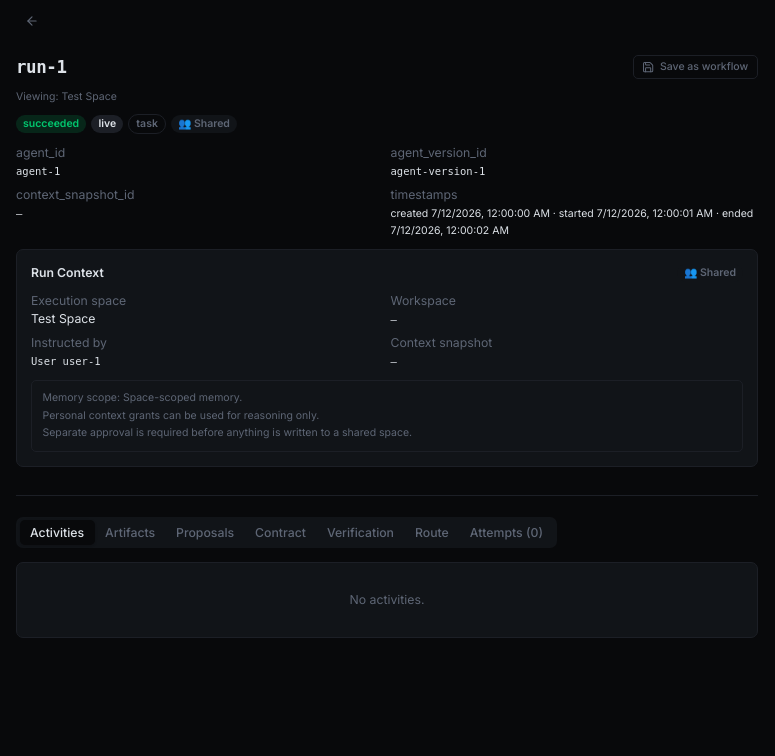
Test case: RunDetailPage route decision panel › shows an explicit unavailable state instead of an empty JSON placeholder
Click the tab "Route" at (432,532), box [404,520,459,544]
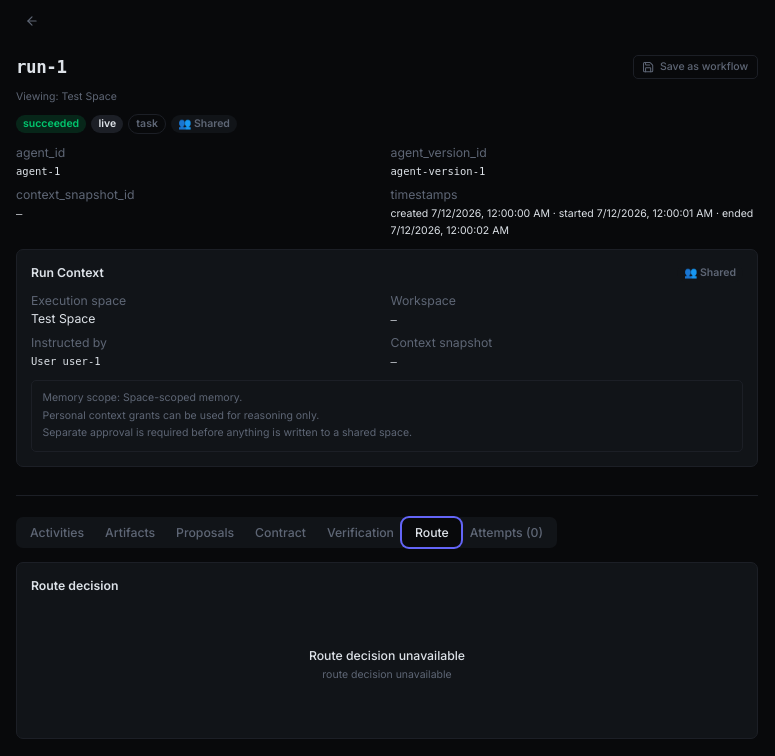
Check: the text "Route decision unavailable" is shown, box [309,647,465,664]
Check: the text "route decision unavailable" is shown, box [322,668,452,682]
